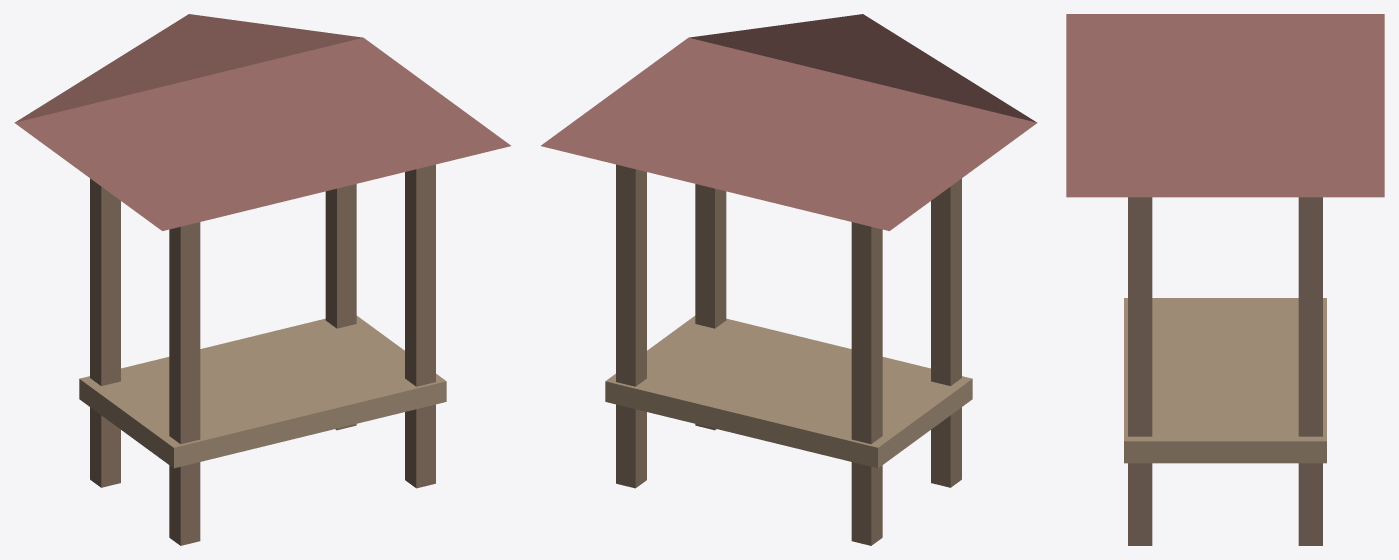
Rendered from barraca_feira.glb.
3 renders of one model, left to right at view 1: azimuth 30°, elevation 25°; view 2: azimuth 150°, elevation 25°; view 3: azimuth 270°, elevation 25°, orthographic. The views are drawn at different scales.
Parts seen in each view (by area): view 1: part_005, part_000, part_002, part_004, part_001, part_003; view 2: part_005, part_000, part_001, part_003, part_002, part_004; view 3: part_005, part_000, part_003, part_004.
Part boxes in pixels (x1=…): part_005: x1=14, y1=14, x2=510, y2=230; part_000: x1=79, y1=316, x2=446, y2=468; part_002: x1=169, y1=222, x2=200, y2=545; part_004: x1=405, y1=164, x2=435, y2=488; part_001: x1=90, y1=178, x2=120, y2=487; part_003: x1=325, y1=184, x2=356, y2=430; part_005: x1=541, y1=14, x2=1037, y2=230; part_000: x1=605, y1=316, x2=972, y2=468; part_001: x1=851, y1=222, x2=882, y2=545; part_003: x1=616, y1=164, x2=646, y2=488; part_002: x1=931, y1=178, x2=961, y2=487; part_004: x1=695, y1=184, x2=726, y2=430; part_005: x1=1066, y1=14, x2=1384, y2=197; part_000: x1=1124, y1=298, x2=1326, y2=463; part_003: x1=1298, y1=197, x2=1322, y2=545; part_004: x1=1128, y1=197, x2=1152, y2=545.
Bounding box in the file's own units: 3.2 × 3.62 × 2.35.
